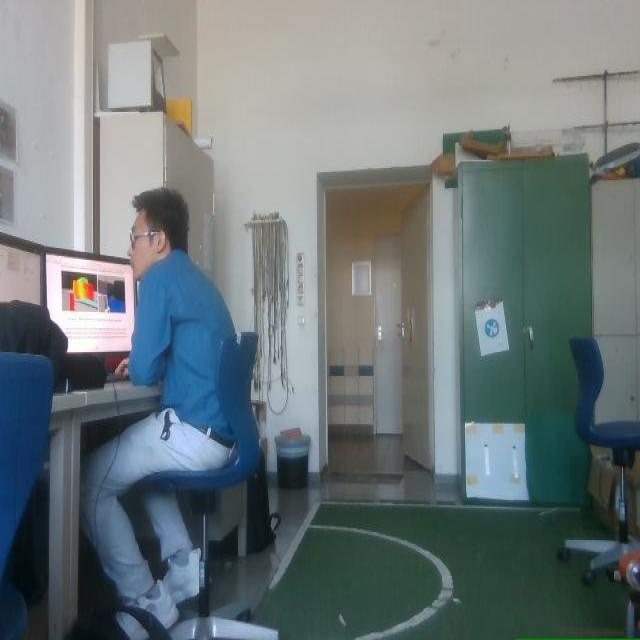humans: (80, 188, 235, 625)
objects: (140, 332, 277, 639), (558, 338, 639, 583), (0, 352, 52, 638), (43, 248, 135, 390), (0, 300, 106, 391), (0, 300, 105, 390), (0, 300, 67, 386), (6, 472, 48, 606), (6, 474, 48, 605), (65, 604, 170, 639), (244, 454, 280, 553), (246, 452, 280, 551), (63, 354, 106, 390)
